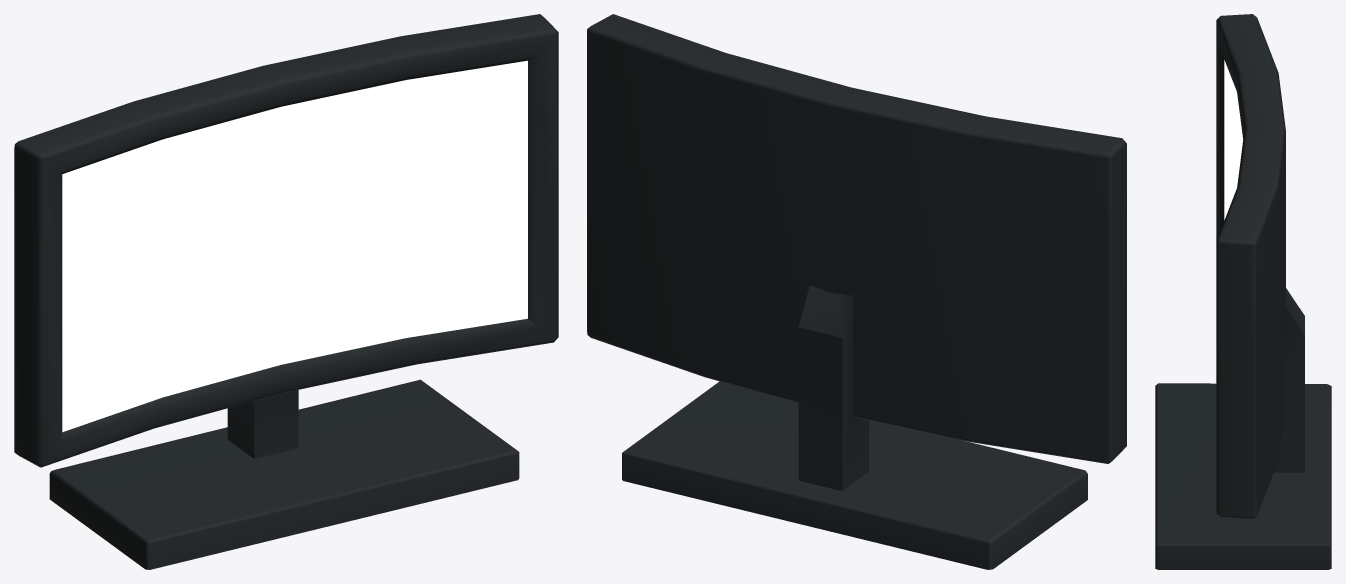
The model's file is monitor.glb.
The picture shows the model from 3 angles, left to right: view 1: azimuth 30°, elevation 25°; view 2: azimuth 150°, elevation 25°; view 3: azimuth 270°, elevation 25°; orthographic projection. The views are drawn at different scales.
Visible parts, largest first — view 1: Monitor_02; view 2: Monitor_02; view 3: Monitor_02.
Part boxes in pixels (x1,y1,x2,y2): Monitor_02: [14, 14, 558, 569]; Monitor_02: [587, 14, 1126, 569]; Monitor_02: [1155, 14, 1331, 569].
Bounding box in the file's own units: 0.7096 × 0.5208 × 0.2299.
2 materials, 2 textured.
